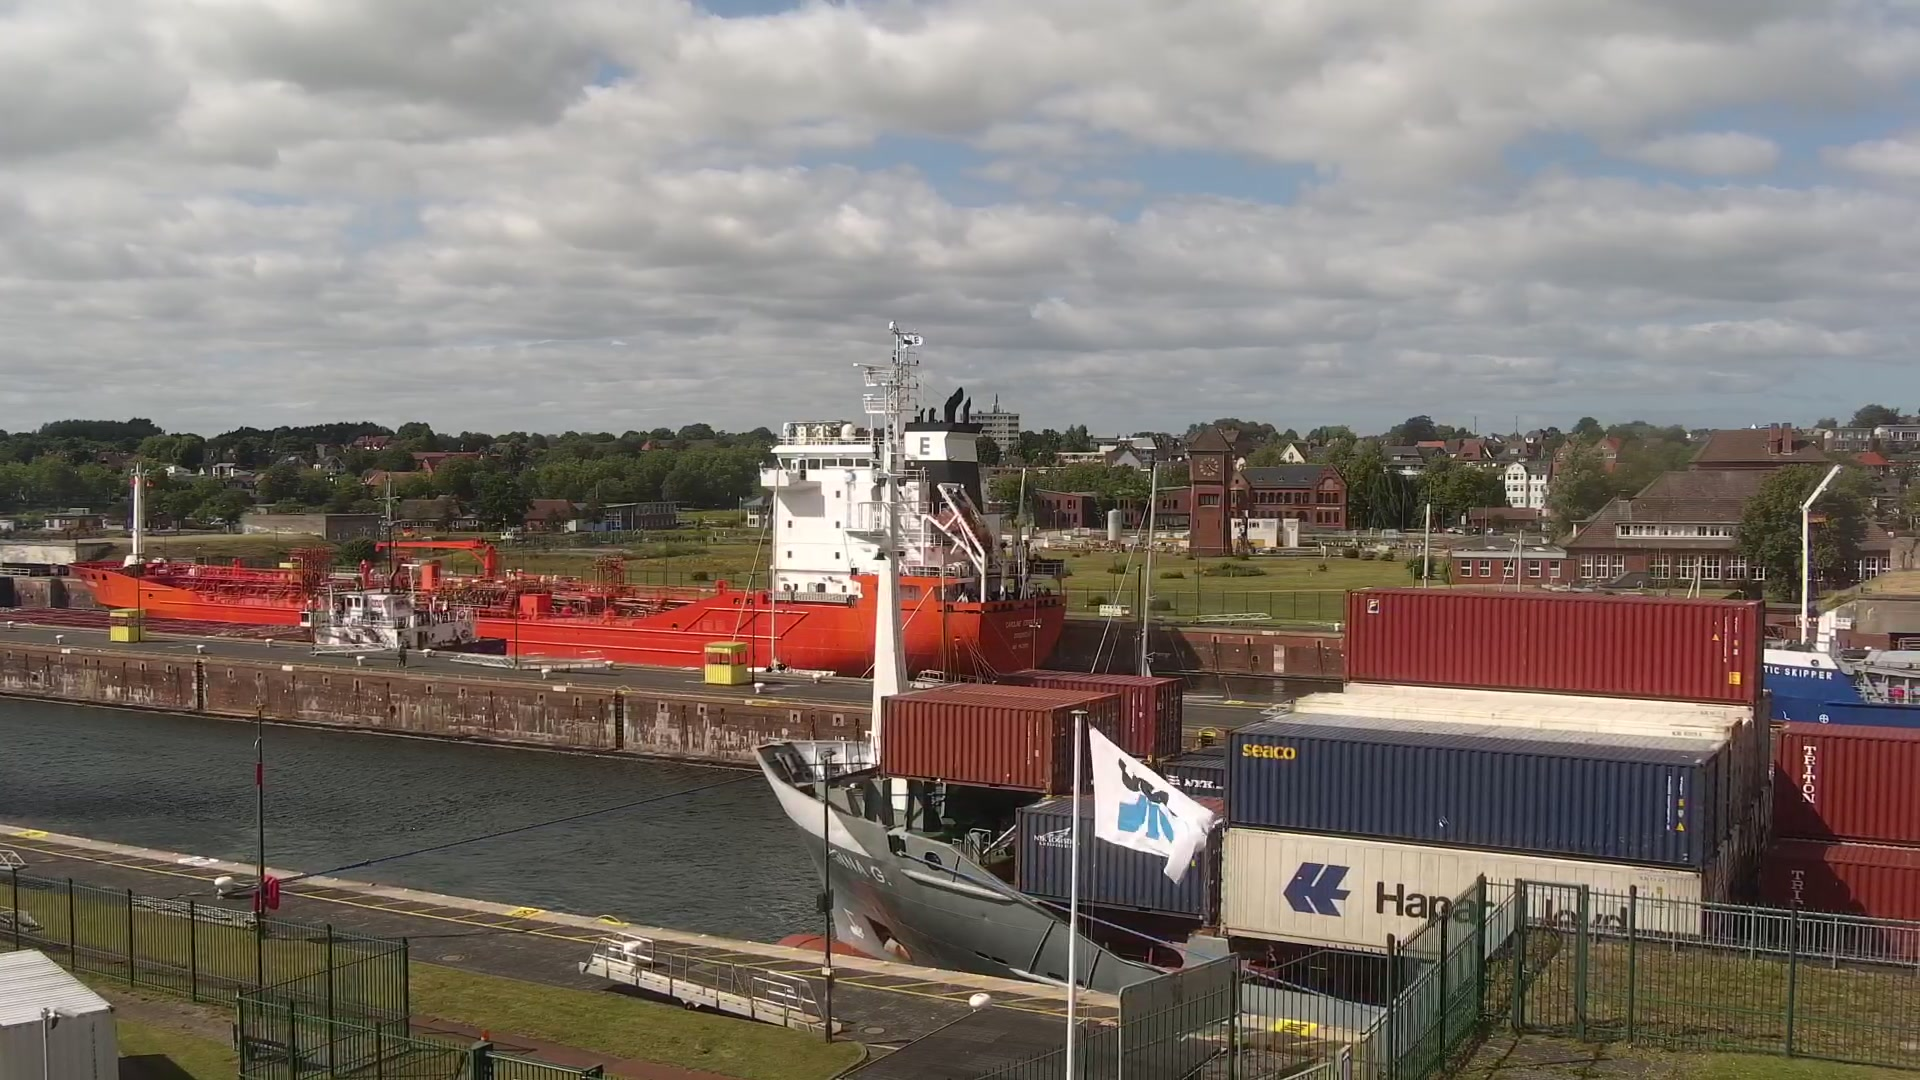human: (397, 642, 407, 668)
land: (1486, 526, 1504, 537), (1446, 525, 1464, 533), (210, 517, 226, 524), (1471, 526, 1481, 535)
sea: (752, 606, 1919, 1037), (1, 317, 1076, 680), (6, 566, 508, 657)
